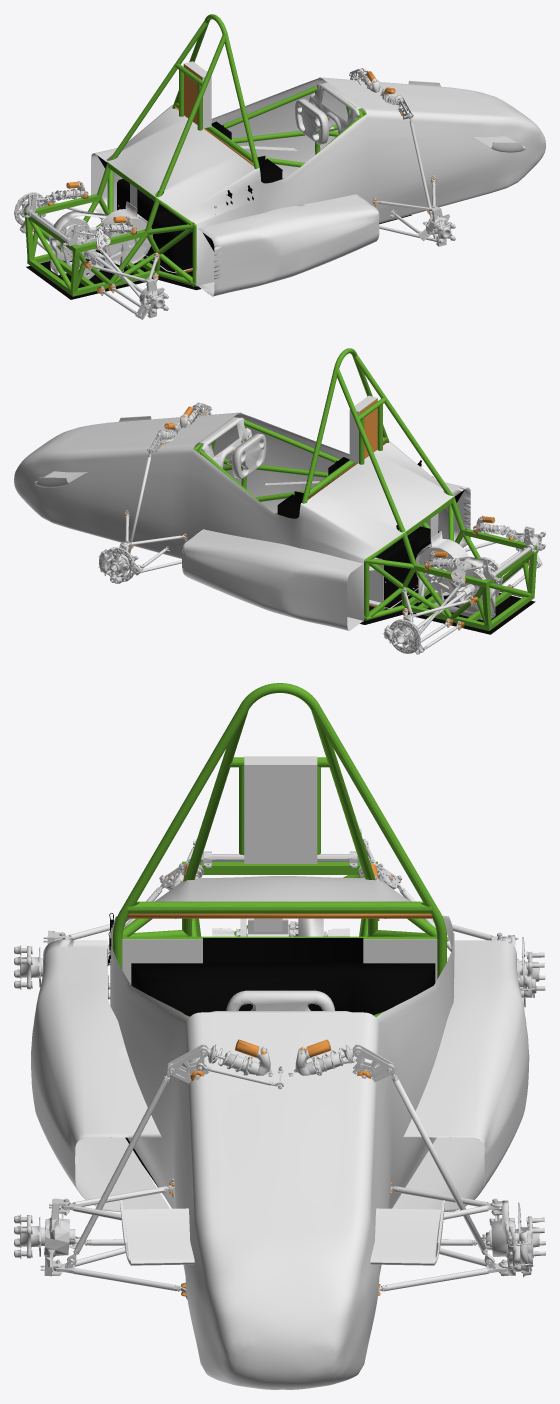
Rendered from body_x.dae.
The picture shows the model from 3 angles, top to bottom: view 1: azimuth 30°, elevation 25°; view 2: azimuth 150°, elevation 25°; view 3: azimuth 270°, elevation 25°; orthographic projection. The views are drawn at different scales.
Visible parts, largest first — view 1: COCHE_FUERA, CHASIS; view 2: COCHE_FUERA, CHASIS; view 3: COCHE_FUERA, CHASIS.
Boxes of the visible parts, x1=… form: COCHE_FUERA: x1=14, y1=61, x2=545, y2=319; CHASIS: x1=24, y1=14, x2=366, y2=296; COCHE_FUERA: x1=14, y1=395, x2=545, y2=654; CHASIS: x1=193, y1=348, x2=537, y2=630; COCHE_FUERA: x1=14, y1=756, x2=545, y2=1389; CHASIS: x1=112, y1=683, x2=448, y2=1017.
Size of the model in its own units: 2.7 by 1.31 by 1.2.
